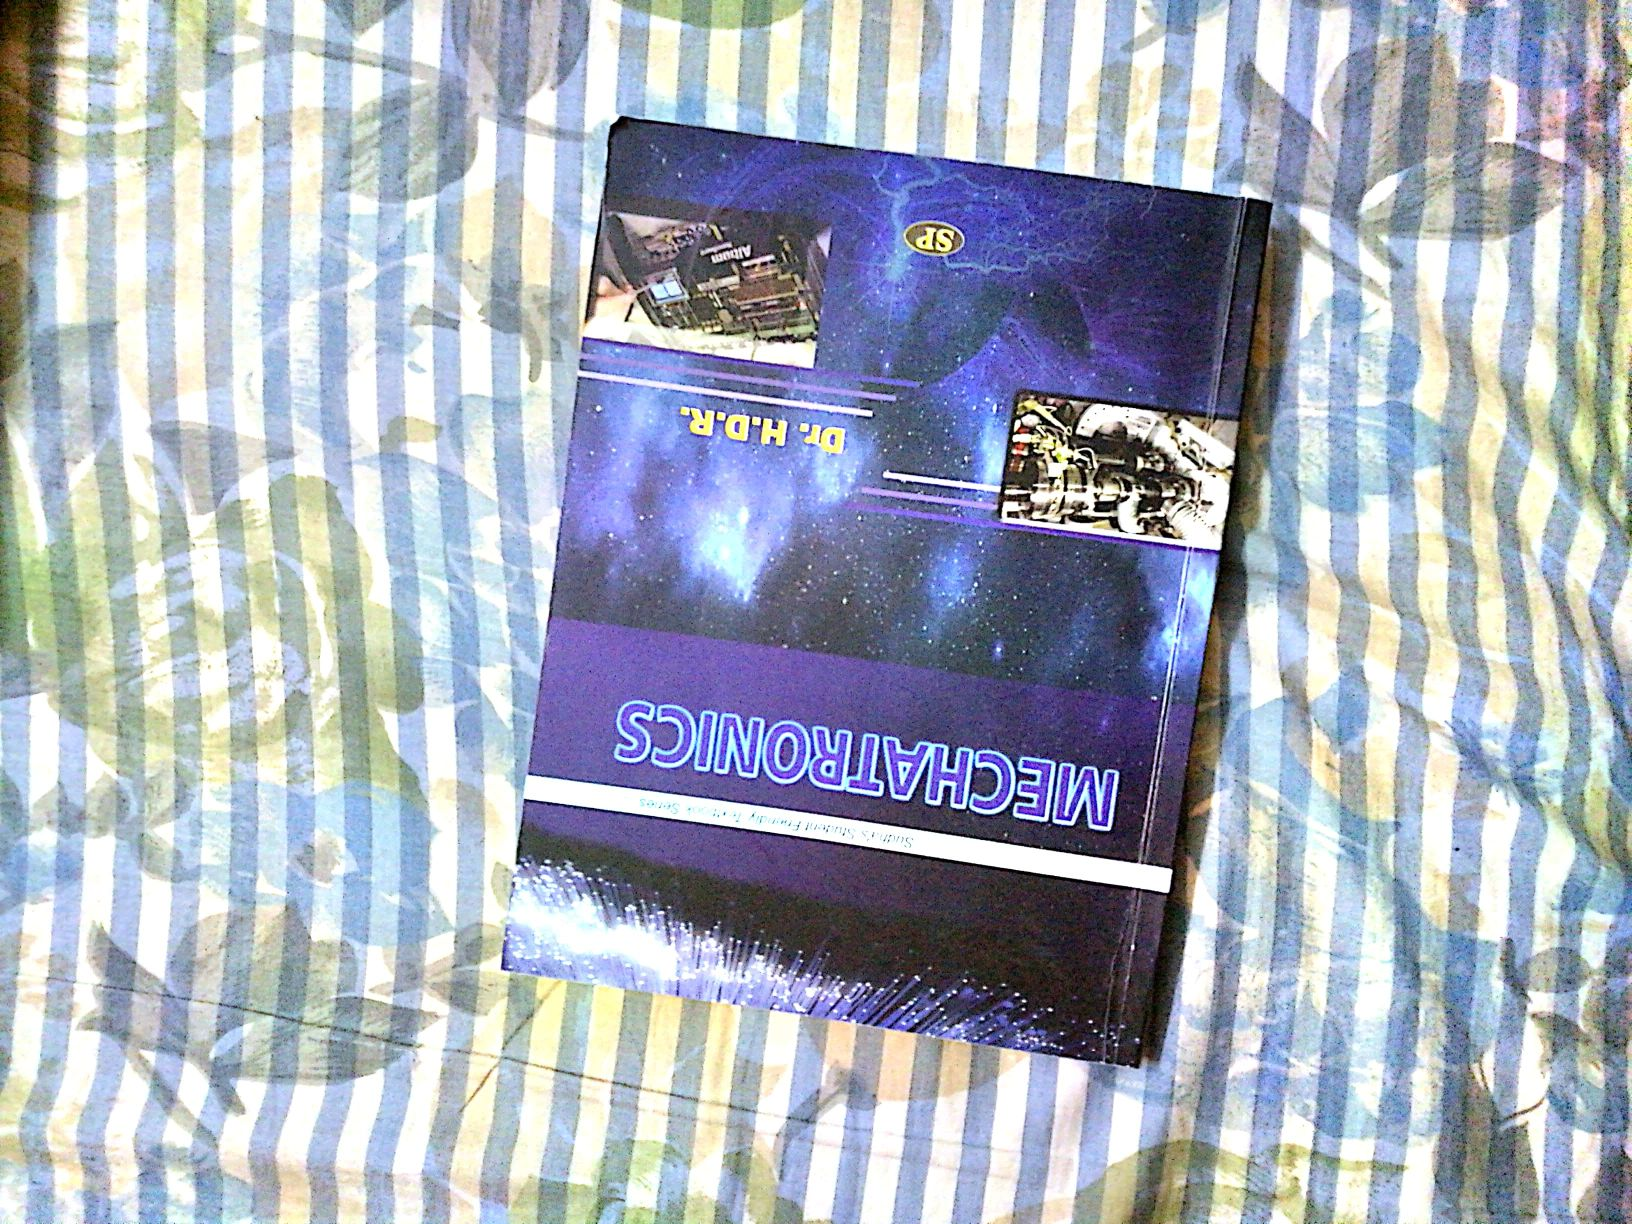mechatronics: (509, 113, 1228, 1101)
